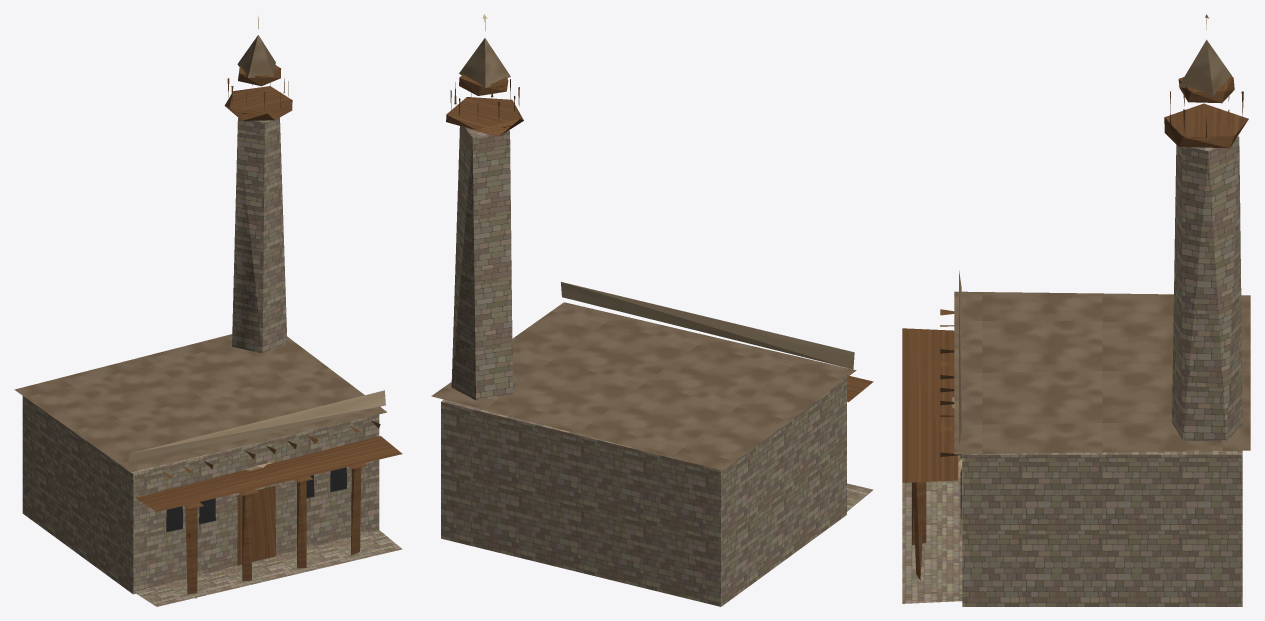
The model's file is mosque_juma_lod2.glb.
3 renders of one model, left to right at view 1: azimuth 30°, elevation 25°; view 2: azimuth 150°, elevation 25°; view 3: azimuth 270°, elevation 25°, orthographic. The views are drawn at different scales.
Parts seen in each view (by area): view 1: m; view 2: m; view 3: m.
Part boxes in pixels (x1,y1,x2,y2): m: (14,16,402,606); m: (431,14,873,606); m: (902,14,1250,606).
Bounding box in the file's own units: 9.4 × 15.94 × 8.7.
Materials: 6 (4 with a texture image).
